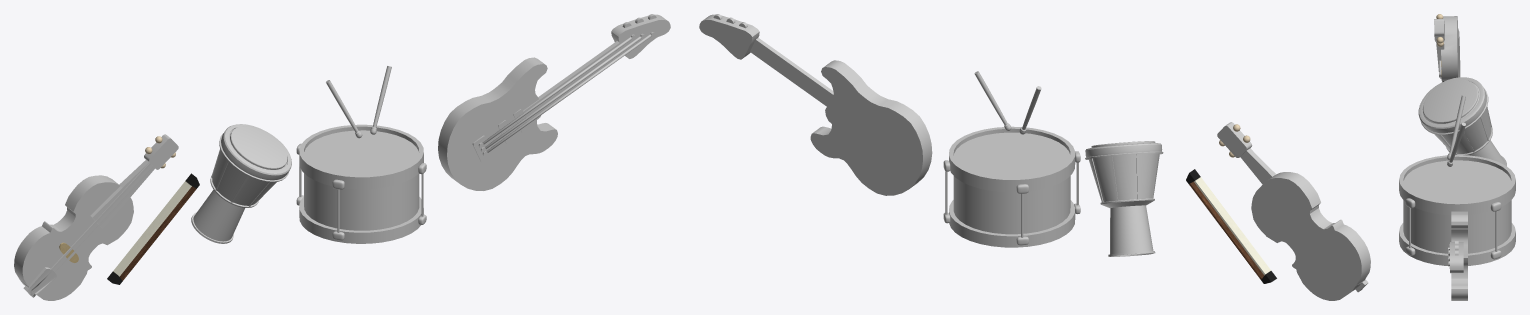
The model's file is music.fbx.
3 renders of one model, left to right at view 1: azimuth 30°, elevation 25°; view 2: azimuth 150°, elevation 25°; view 3: azimuth 270°, elevation 25°, orthographic. The views are drawn at different scales.
Parts seen in each view (by area): view 1: Cylinder.004, Cylinder.009, Cube.002, Cylinder.001; view 2: Cylinder.004, Cylinder.009, Cube.002, Cylinder.001; view 3: Cylinder.004, Cylinder.001, Cylinder.009, Cube.002, Sphere.001.
Boxes of the visible parts, x1,y1,x2,y2 form: Cylinder.004: (296, 66, 426, 243); Cylinder.009: (438, 14, 670, 190); Cube.002: (14, 134, 199, 300); Cylinder.001: (191, 124, 291, 243); Cylinder.004: (943, 71, 1080, 247); Cylinder.009: (699, 14, 932, 195); Cube.002: (1186, 122, 1370, 300); Cylinder.001: (1085, 141, 1163, 256); Cylinder.004: (1399, 95, 1515, 266); Cylinder.001: (1418, 77, 1506, 166); Cylinder.009: (1448, 211, 1467, 300); Cube.002: (1434, 16, 1460, 82); Sphere.001: (1436, 14, 1443, 46).
Size of the model in its own units: 954 by 202 by 158.
